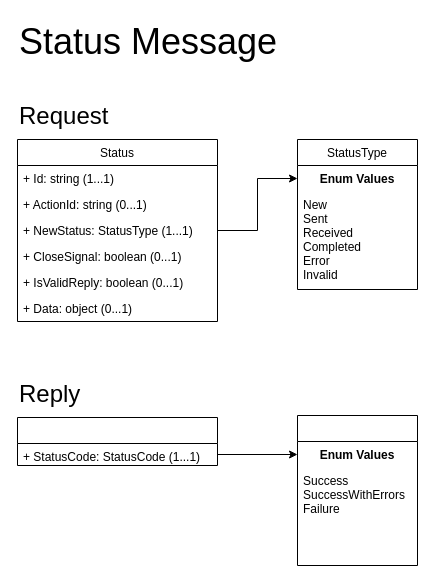
Some shapes in this 435 by 585 pixel diagram are drawn without their labels. Here are the shapes that lost their labels. From the top down, the box of each, then its label:
(16, 416, 218, 466): StatusReply
(296, 414, 418, 566): StatusCode
